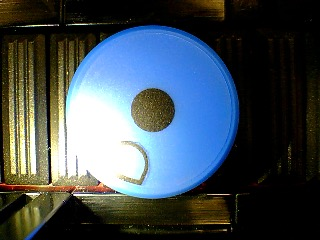BOHOMIPO1: (63, 25, 240, 200)
